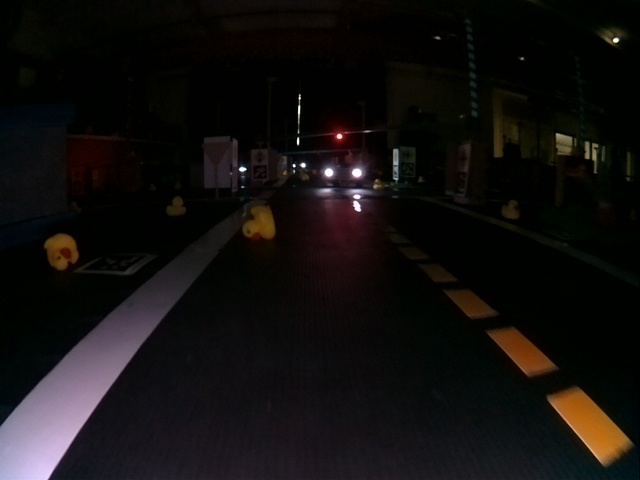Duckie: (43, 232, 75, 268), (243, 208, 273, 235), (501, 198, 518, 219), (168, 196, 183, 215), (373, 178, 384, 189)
Duckiebot: (323, 159, 364, 188)
QR code: (253, 165, 267, 179)
Traffic light: (335, 131, 344, 141)
